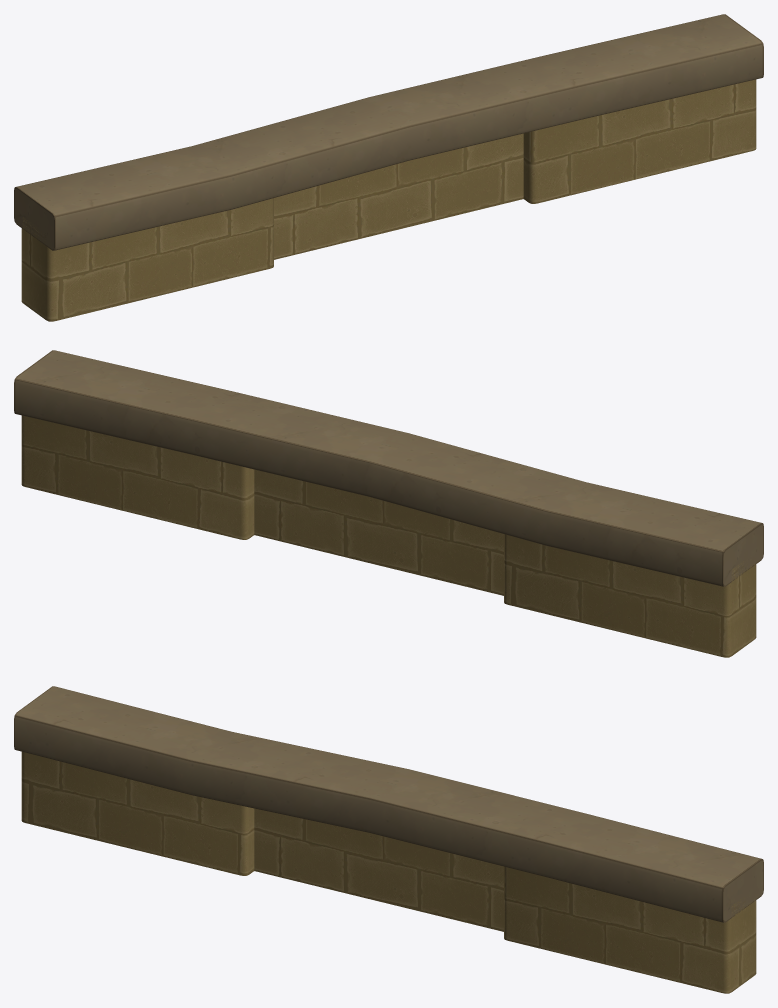
File: SM_building_foundation_01.glb
3 views of the same model, one above another, from view 1: azimuth 30°, elevation 25°; view 2: azimuth 150°, elevation 25°; view 3: azimuth 330°, elevation 25° (orthographic).
Visible parts, largest first — view 1: SM_building_foundation_01; view 2: SM_building_foundation_01; view 3: SM_building_foundation_01.
Part boxes in pixels (bbox=[...]): SM_building_foundation_01: bbox=[14, 14, 763, 321]; SM_building_foundation_01: bbox=[14, 350, 763, 657]; SM_building_foundation_01: bbox=[14, 686, 763, 993].
Size of the model in its own units: 6 by 0.9283 by 0.6.
Materials: 2 (2 with a texture image).
